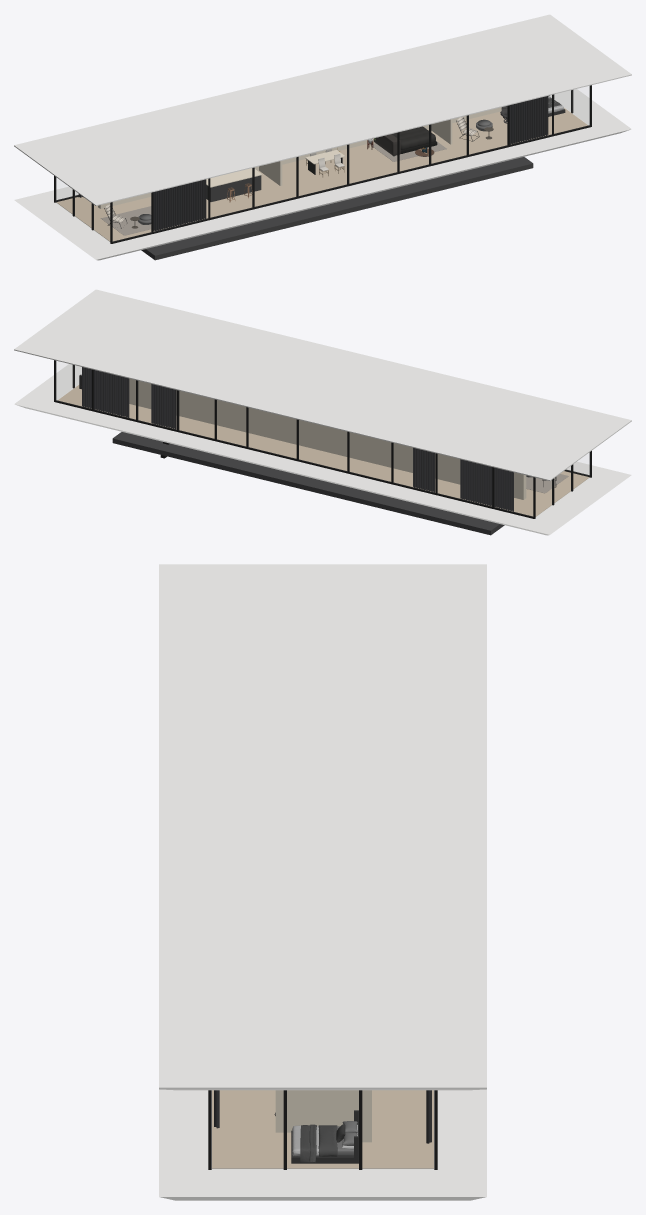
File: pavilion.glb
The picture shows the model from 3 angles, top to bottom: view 1: azimuth 30°, elevation 25°; view 2: azimuth 150°, elevation 25°; view 3: azimuth 270°, elevation 25°; orthographic projection. The views are drawn at different scales.
Visible parts, largest first — view 1: Roof_Fascia, Floor_Slab, Interior_Floor, Ground_Plate, Curtain_0, Curtain_1, Sill_-1, Furn_Sofa, Kitchen_Island, Core_Wall, Rug_West, Kitchen_Top (+3 smaller); view 2: Roof_Fascia, Floor_Slab, Core_Wall, Interior_Floor, Ground_Plate, Curtain_rear_0, Curtain_rear_1, Sill_1, Curtain_rear_3, Curtain_rear_2, Rug_West; view 3: Roof_Fascia, Floor_Slab, Interior_Floor, Partition_12.8, Furn_Bed.
Part boxes in pixels (<box>): Roof_Fascia: <box>14,14,631,205</box>; Floor_Slab: <box>14,89,631,260</box>; Interior_Floor: <box>56,108,587,241</box>; Ground_Plate: <box>141,157,533,260</box>; Curtain_0: <box>153,179,206,230</box>; Curtain_1: <box>507,96,548,144</box>; Sill_-1: <box>112,125,591,243</box>; Furn_Sofa: <box>374,126,437,156</box>; Kitchen_Island: <box>206,175,261,201</box>; Core_Wall: <box>98,107,501,208</box>; Rug_West: <box>101,206,151,235</box>; Kitchen_Top: <box>206,168,262,187</box>; Roof_Fascia: <box>14,289,631,480</box>; Floor_Slab: <box>14,364,631,535</box>; Core_Wall: <box>129,378,526,499</box>; Interior_Floor: <box>58,385,589,516</box>; Ground_Plate: <box>112,432,504,535</box>; Curtain_rear_0: <box>460,459,513,511</box>; Curtain_rear_1: <box>82,367,129,417</box>; Sill_1: <box>54,400,533,518</box>; Curtain_rear_3: <box>151,384,176,429</box>; Curtain_rear_2: <box>413,448,435,492</box>; Rug_West: <box>526,474,568,493</box>; Roof_Fascia: <box>159,564,486,1089</box>; Floor_Slab: <box>159,1089,486,1200</box>; Interior_Floor: <box>212,1090,433,1168</box>; Partition_12.8: <box>275,1090,358,1132</box>; Furn_Bed: <box>291,1110,358,1163</box>.
Bounding box in the file's own units: 34 × 5.34 × 9.
Materials: 32 (10 with a texture image).
